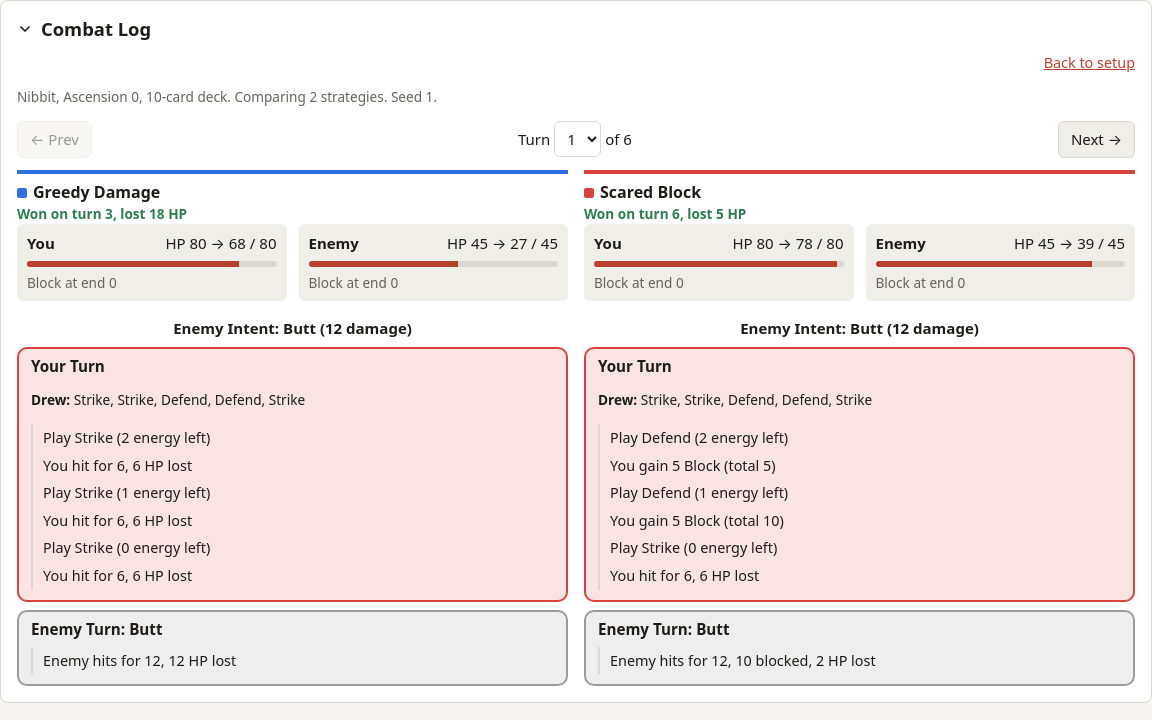
Test: compare view: stepping turns › a column whose combat is over reads "Combat ended on turn N" while the longer one still shows its turn
Expected: the dropdown shows "1", [554,121,601,157]
Click the button with aria-label "Next turn" at (1096, 139), box [1058,121,1135,158]
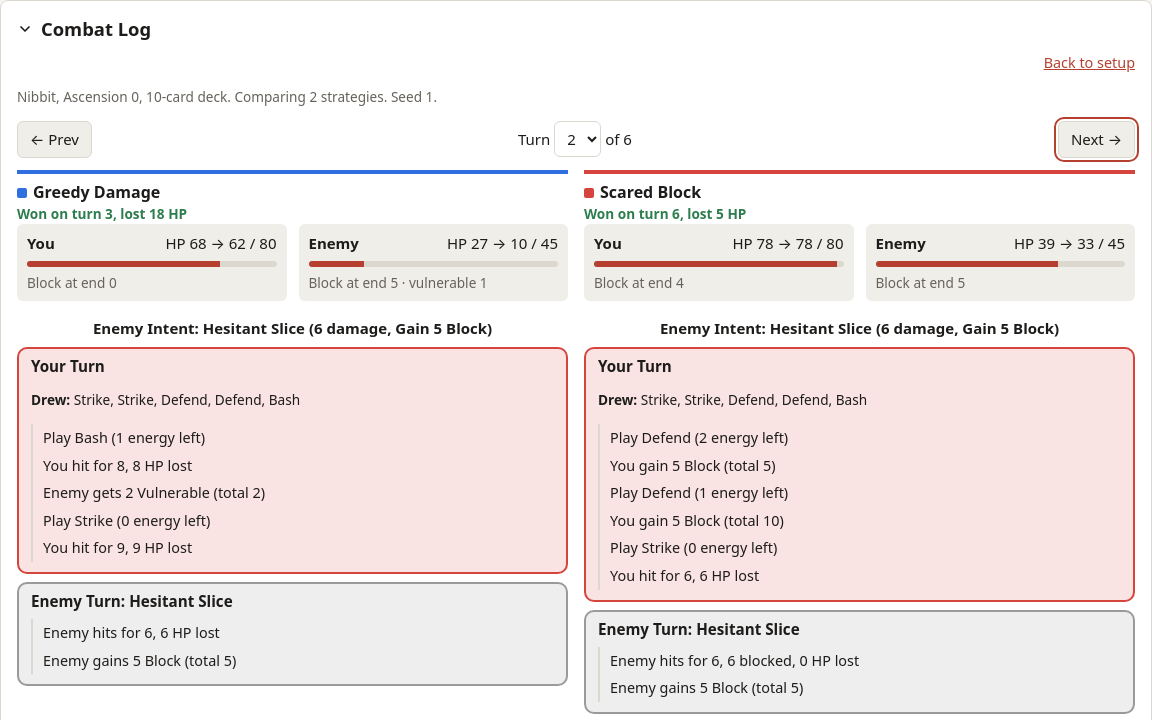
Click the button with aria-label "Next turn" at (1096, 139), box [1058,121,1135,158]
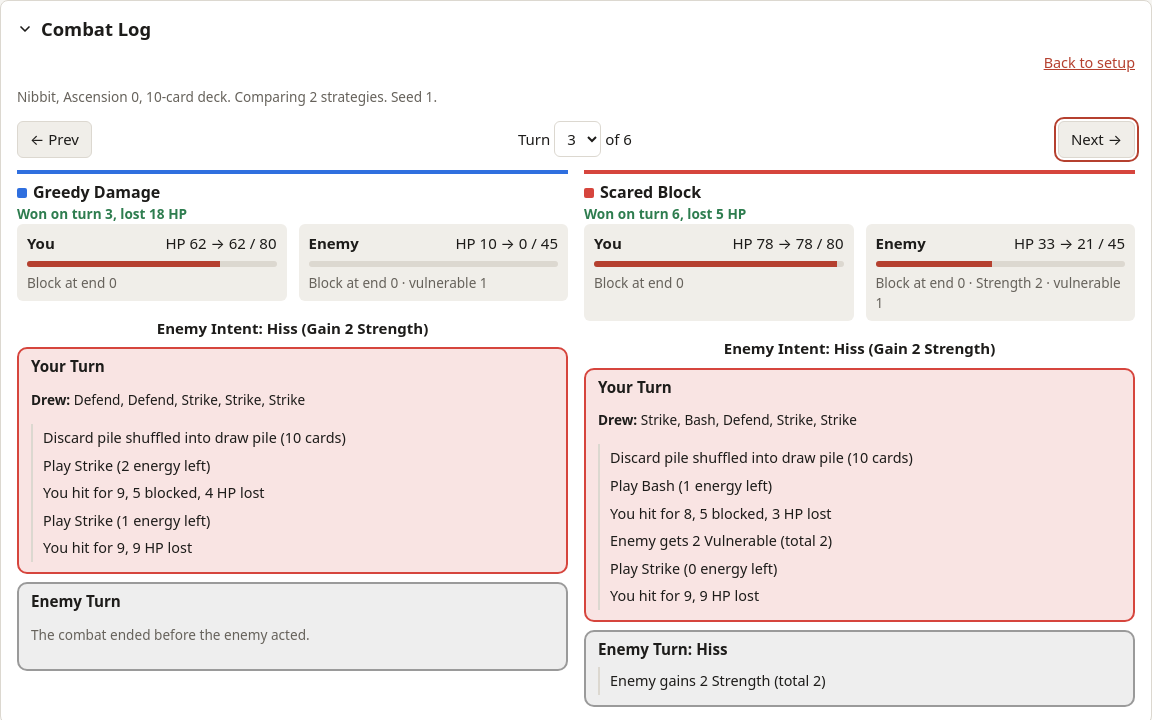
Click the button with aria-label "Next turn" at (1096, 139), box [1058,121,1135,158]
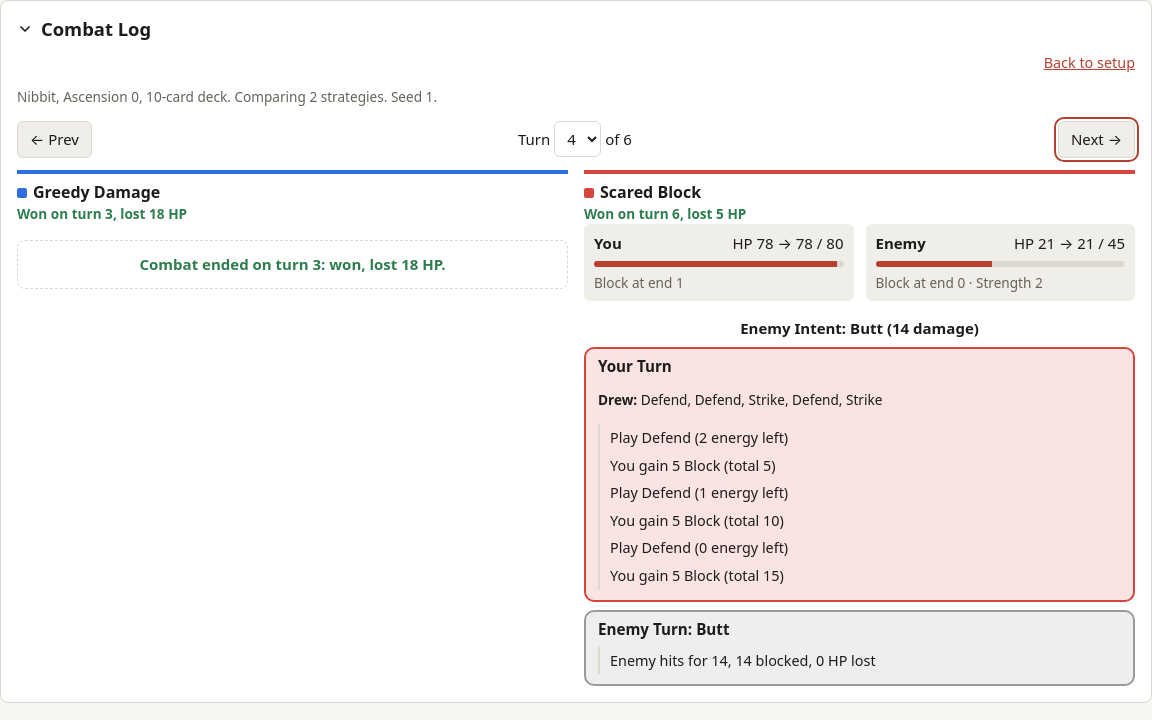
Expected: the heading "Your Turn" is shown, [598,356,672,376]
Result: the dropdown shows "4" at [554,121,601,157]
Click the button with aria-label "Previous turn" at (54, 139), box [17,121,92,158]
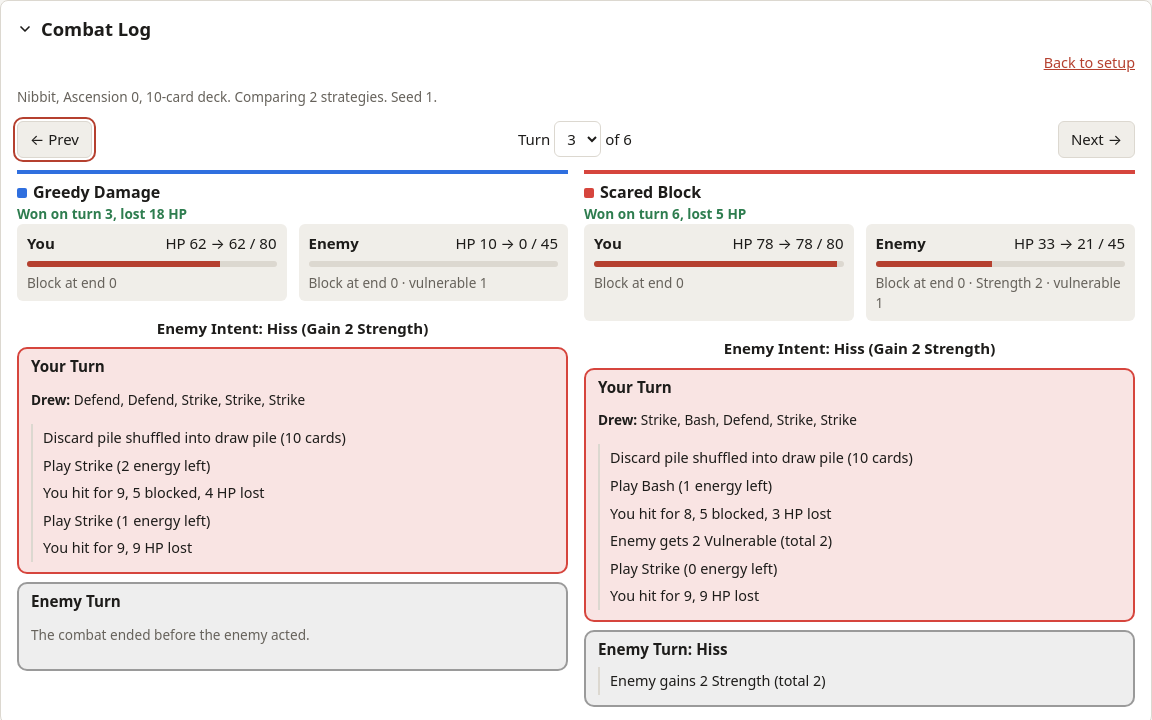
Result: the text with class "compare-ended" is gone
